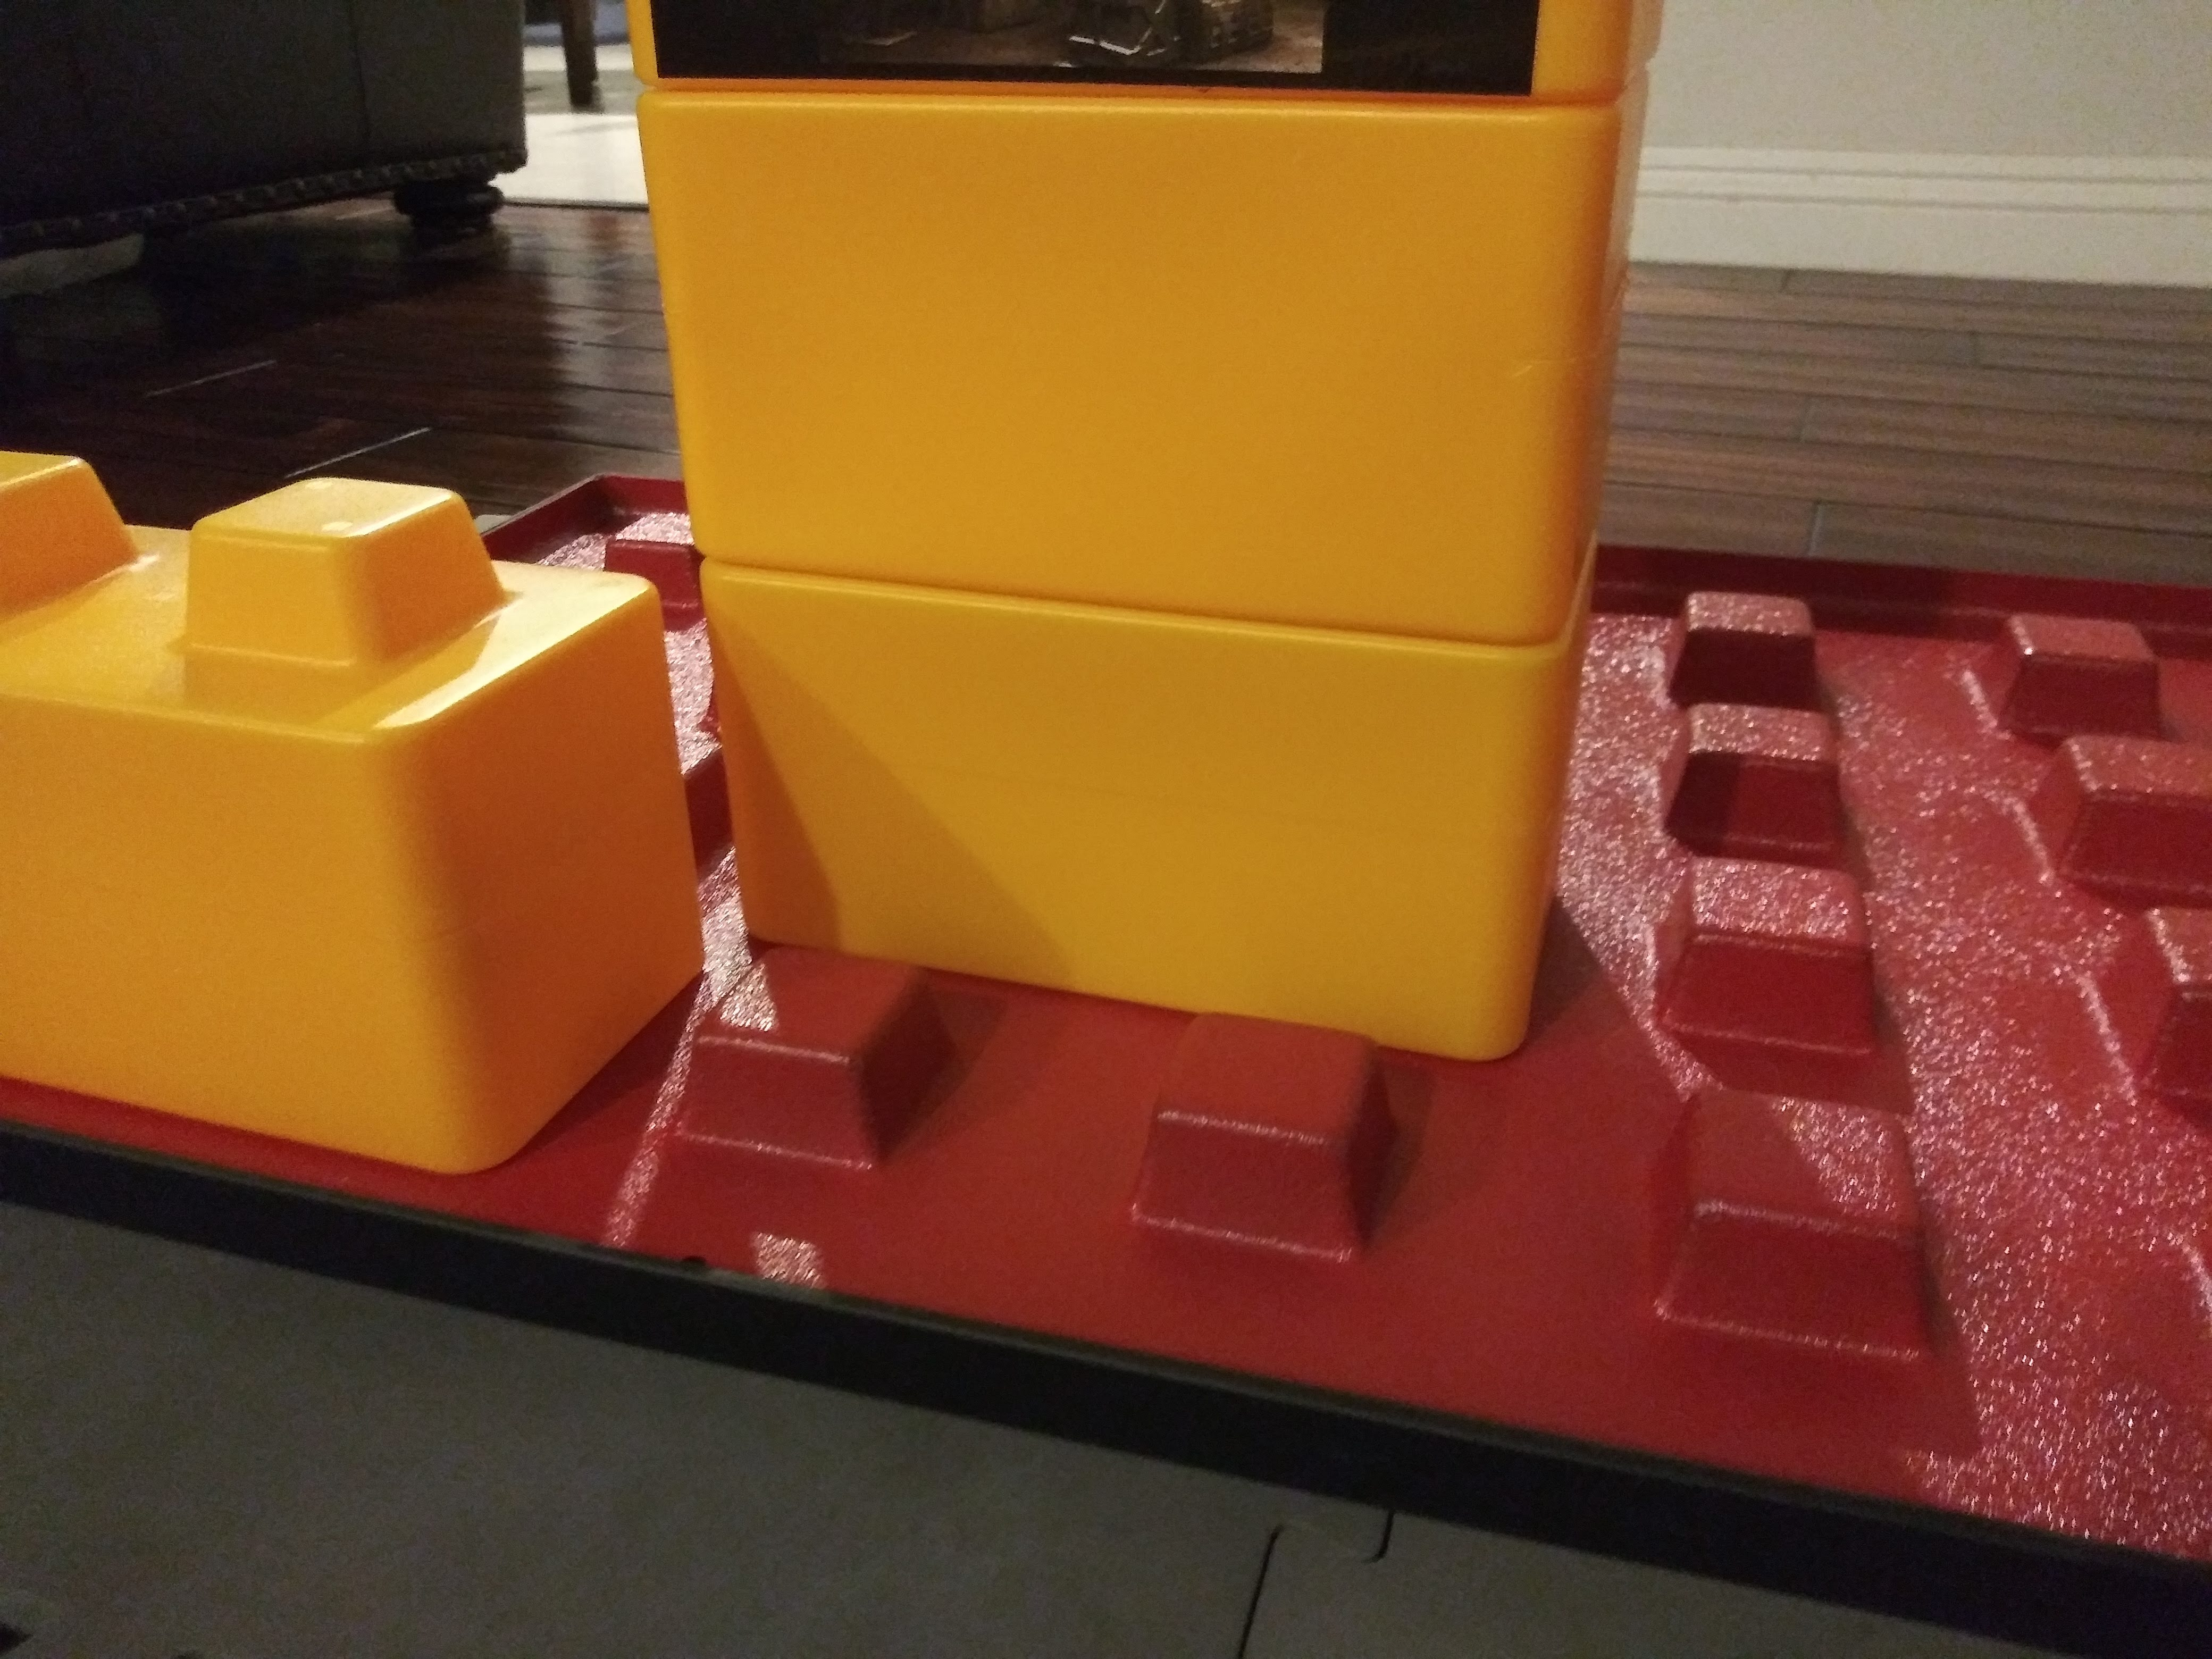red foundation: (158, 401, 2141, 1431)
